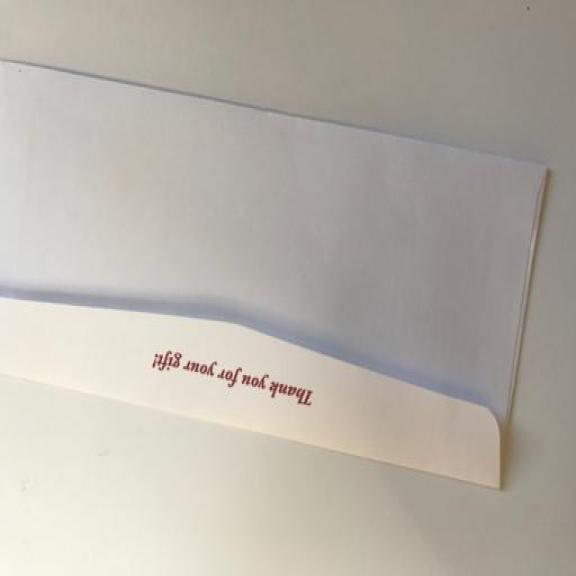Kertas: (1, 51, 554, 500)
